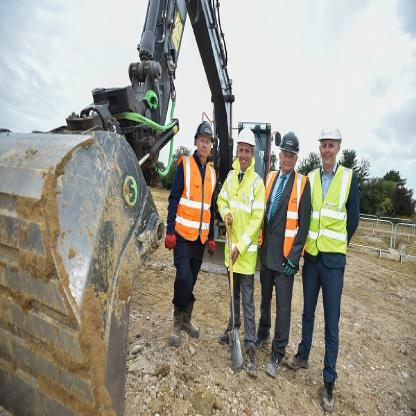person: (303, 92, 357, 397), (157, 104, 210, 343), (259, 78, 299, 382), (217, 110, 257, 382)
